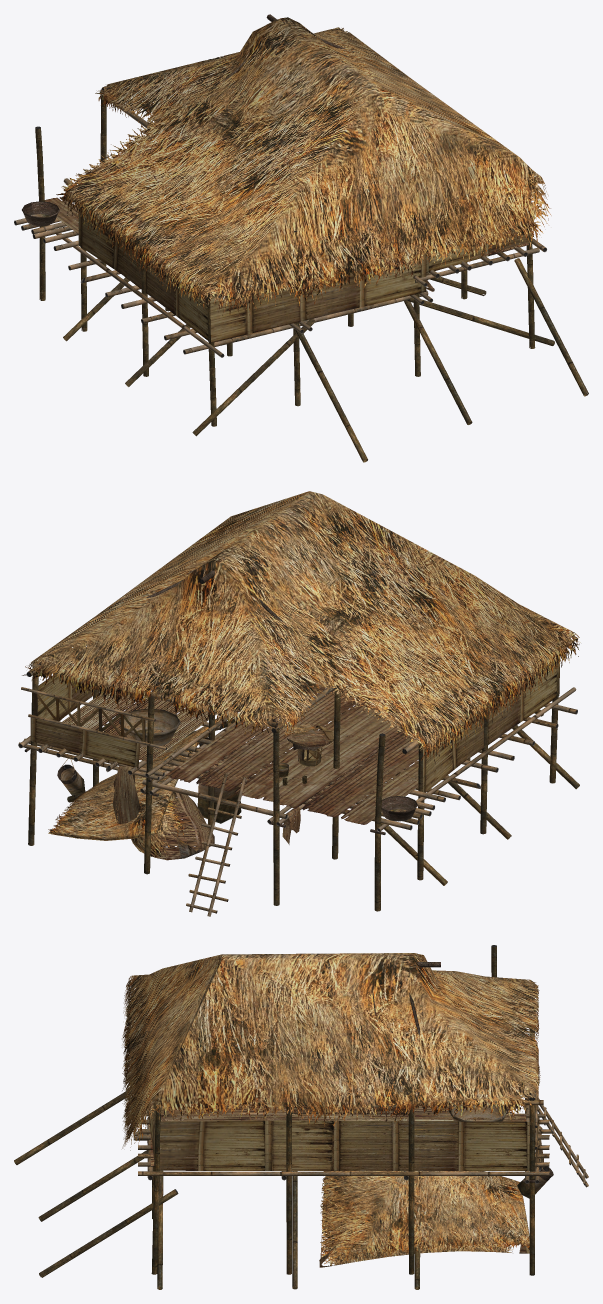
Rendered from House 01.FBX.
The picture shows the model from 3 angles, top to bottom: view 1: azimuth 30°, elevation 25°; view 2: azimuth 150°, elevation 25°; view 3: azimuth 270°, elevation 25°; orthographic projection. The views are drawn at different scales.
Parts seen in each view (by area): view 1: House 01; view 2: House 01; view 3: House 01.
Boxes of the visible parts, x1,y1,x2,y2 form: House 01: (14,14,588,462); House 01: (18,491,580,916); House 01: (14,945,588,1289).
Bounding box in the file's own units: 52.36 × 36 × 70.33.
